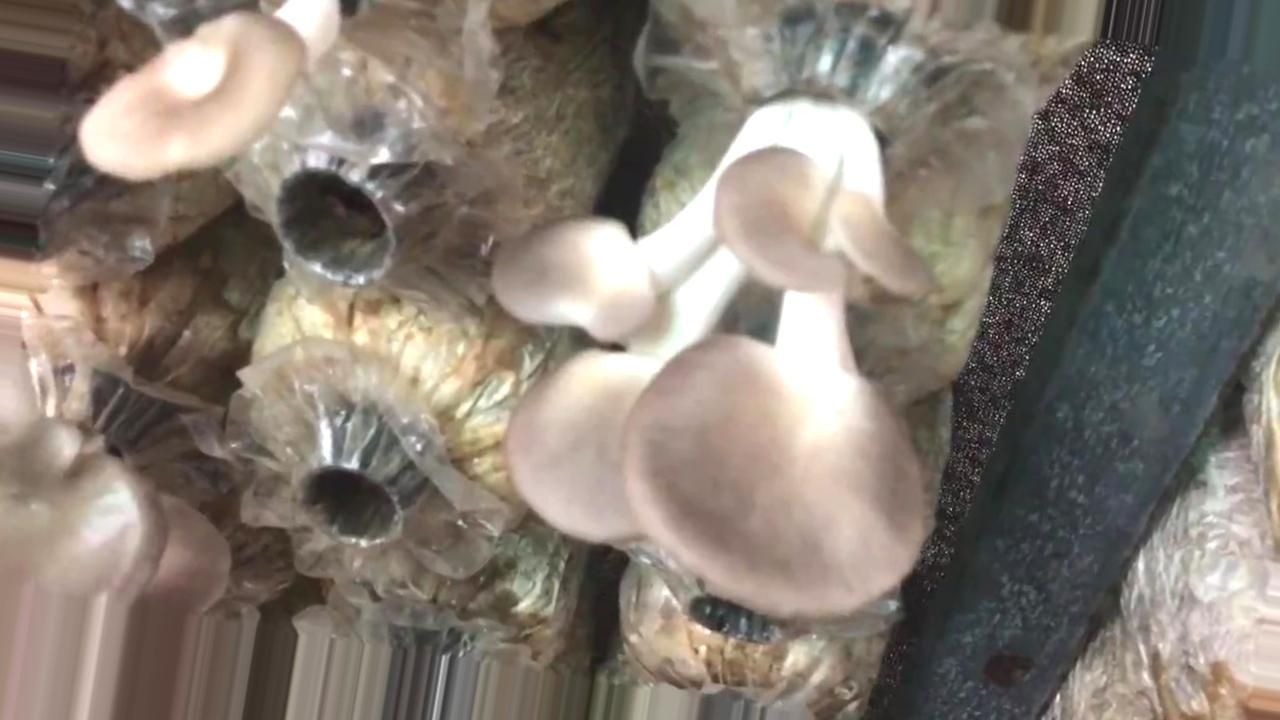nam: (492, 20, 952, 616), (80, 1, 370, 184)
